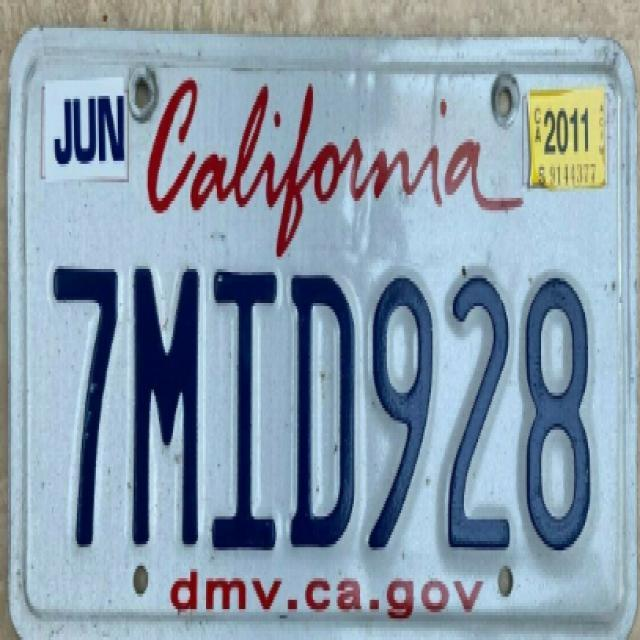7: (40, 239, 126, 570)
8: (524, 246, 600, 569)
9: (365, 245, 438, 564)
D: (288, 245, 360, 559)
I: (213, 240, 285, 562)
M: (130, 240, 206, 554)
